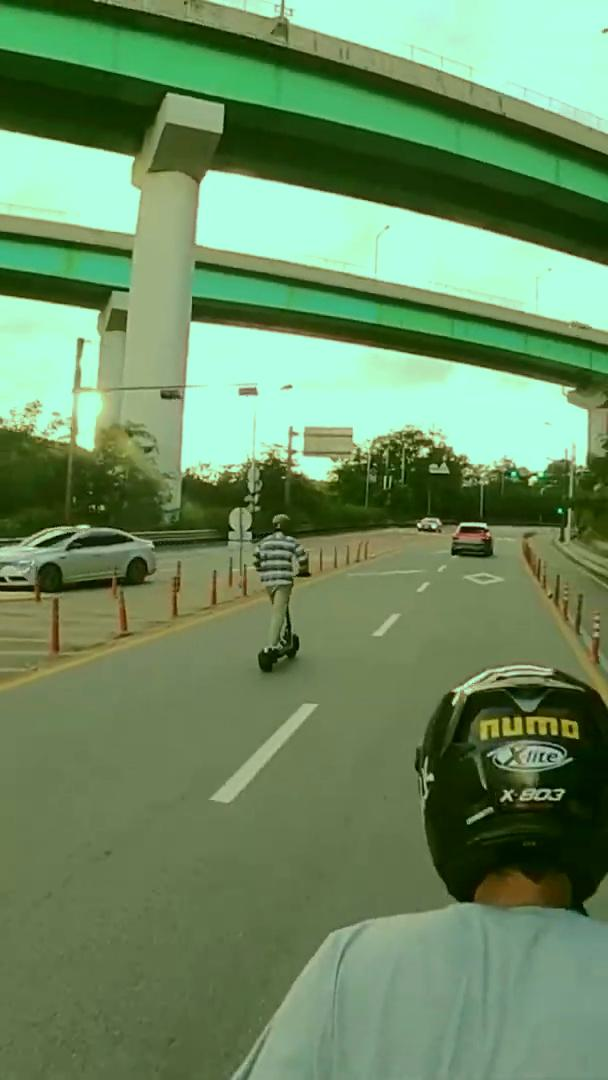helmet: (248, 508, 315, 674)
